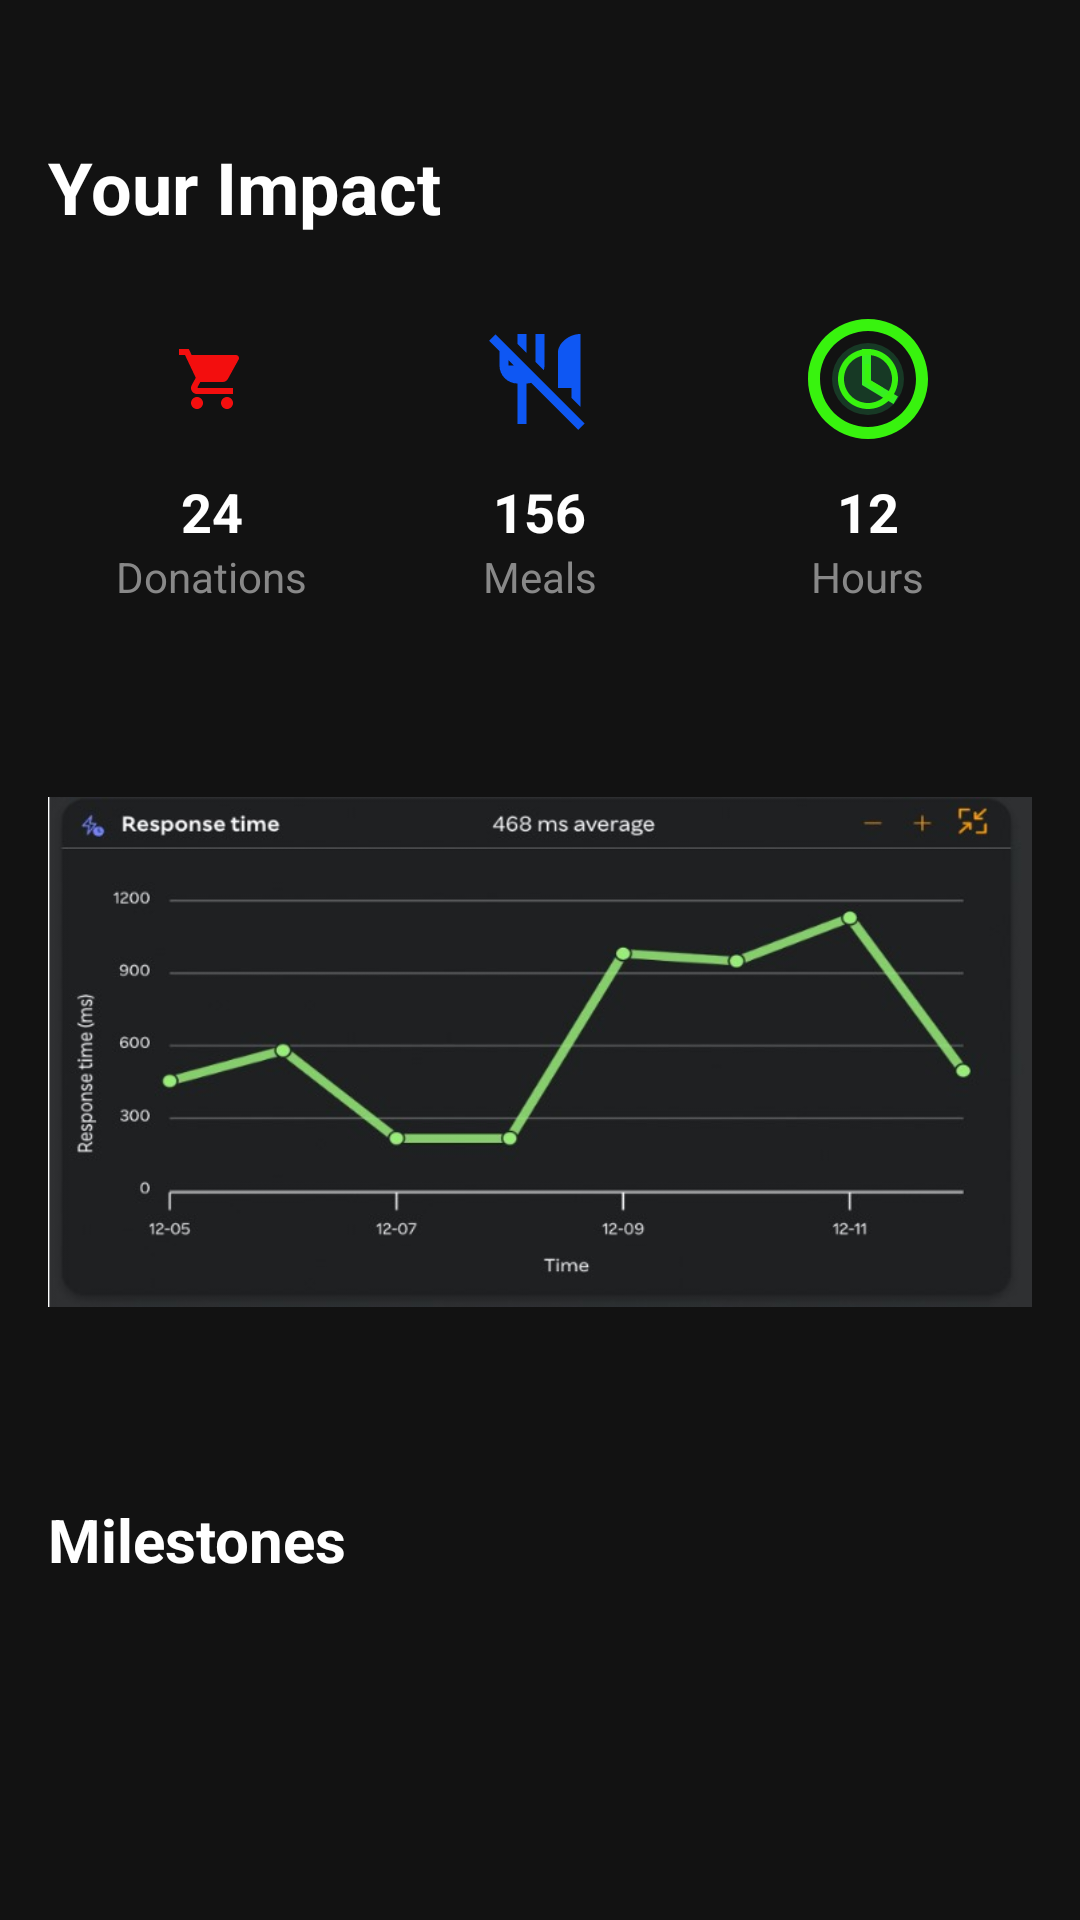

Screen size 1080px x 1920px. Icon name, then its center in pixels as (x=x, y=y):
cart: (x=209, y=379)
cloack: (x=868, y=379)
